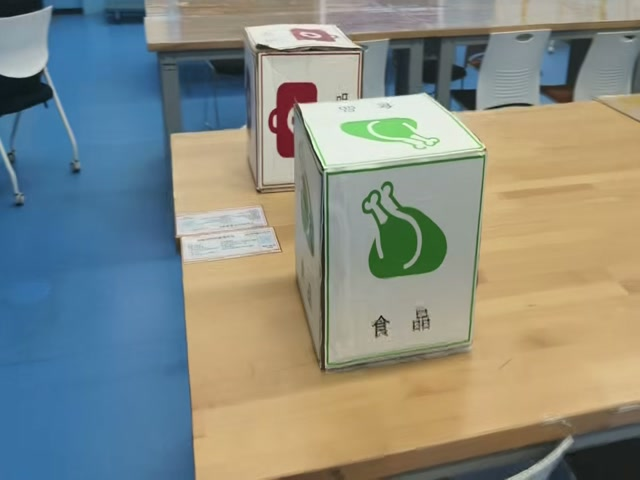Cube_food: (297, 94, 487, 177)
Cube_medicine: (242, 25, 359, 58)
